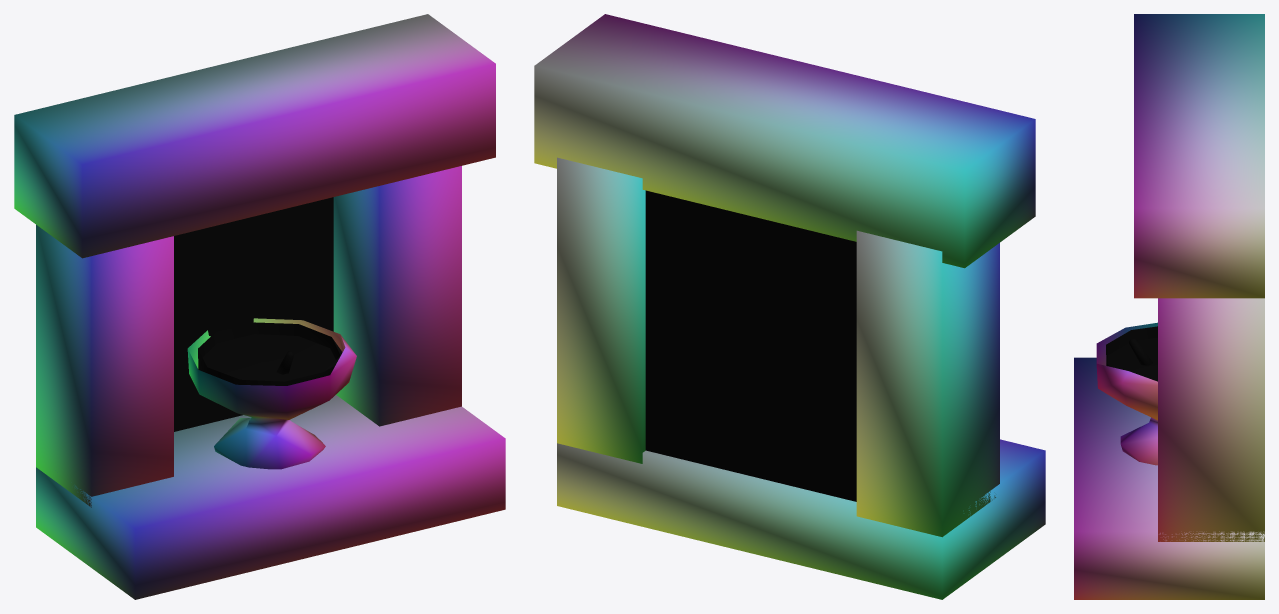
The model's file is SM_Pit_NicheLamp_LOD1.fbx.
The picture shows the model from 3 angles, left to right: view 1: azimuth 30°, elevation 25°; view 2: azimuth 150°, elevation 25°; view 3: azimuth 270°, elevation 25°; orthographic projection. The views are drawn at different scales.
Parts seen in each view (by area): view 1: SM_Pit_NicheLamp_LOD1; view 2: SM_Pit_NicheLamp_LOD1; view 3: SM_Pit_NicheLamp_LOD1.
Boxes of the visible parts, box(x1,y1,x2,y2) form: SM_Pit_NicheLamp_LOD1: box(14, 14, 505, 599); SM_Pit_NicheLamp_LOD1: box(534, 14, 1045, 599); SM_Pit_NicheLamp_LOD1: box(1074, 14, 1264, 599).
Bounding box in the file's own units: 0.5744 × 0.5544 × 0.2384.
